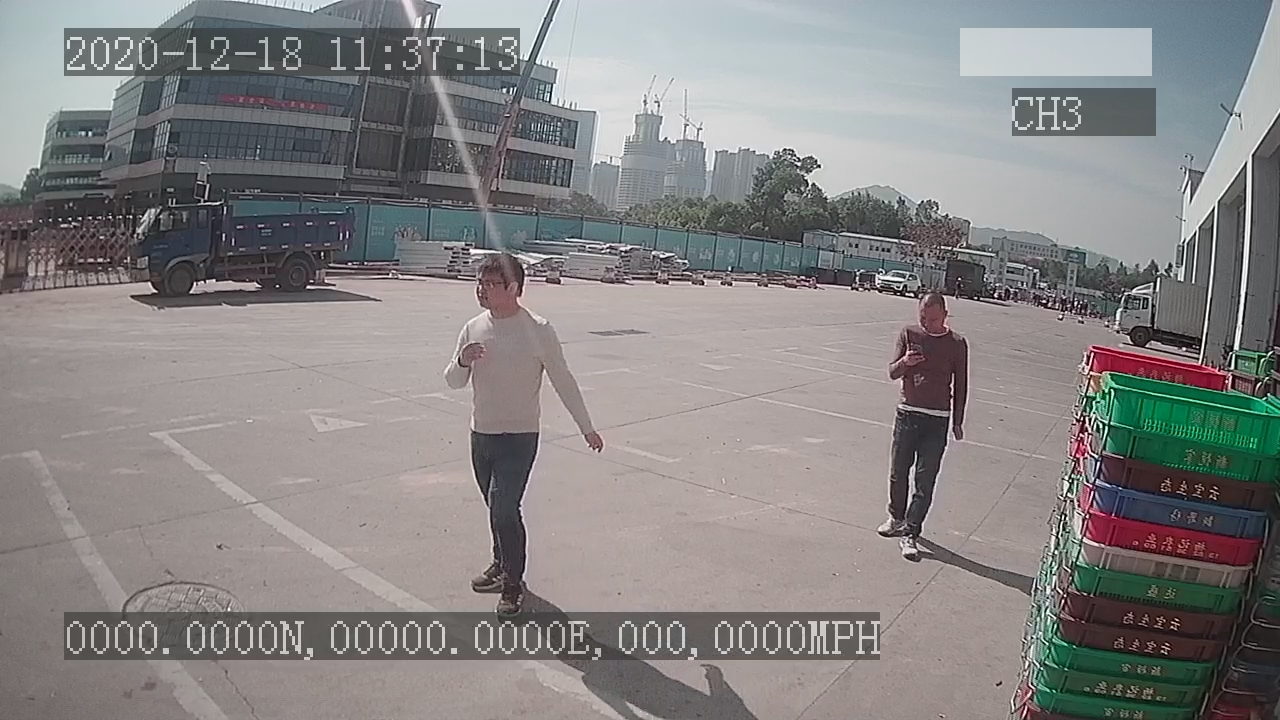person: (436, 242, 608, 612), (878, 291, 970, 558)
